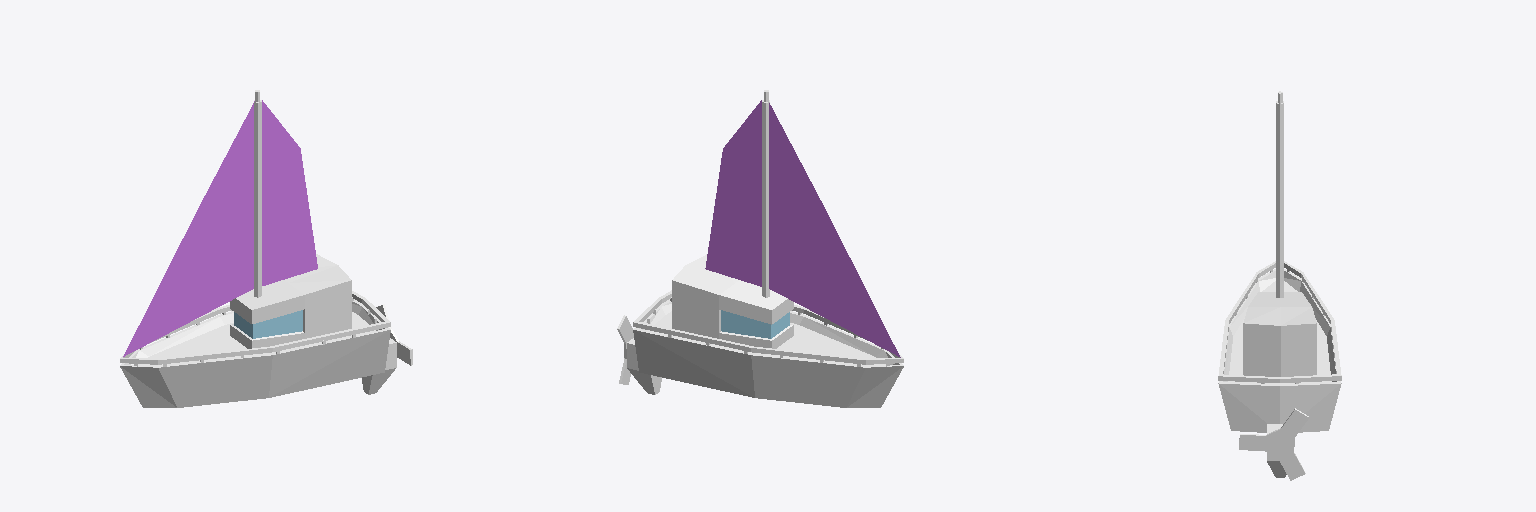
File: luxury_yacht.obj
3 renders of one model, left to right at view 1: azimuth 30°, elevation 25°; view 2: azimuth 150°, elevation 25°; view 3: azimuth 270°, elevation 25°, orthographic.
Parts seen in each view (by area): view 1: yacht; view 2: yacht; view 3: yacht.
Part boxes in pixels (x1,y1,x2,y2): yacht: (120, 90, 412, 407); yacht: (617, 90, 903, 407); yacht: (1218, 91, 1341, 480).
Size of the model in its own units: 20.52 by 23.64 by 8.02.